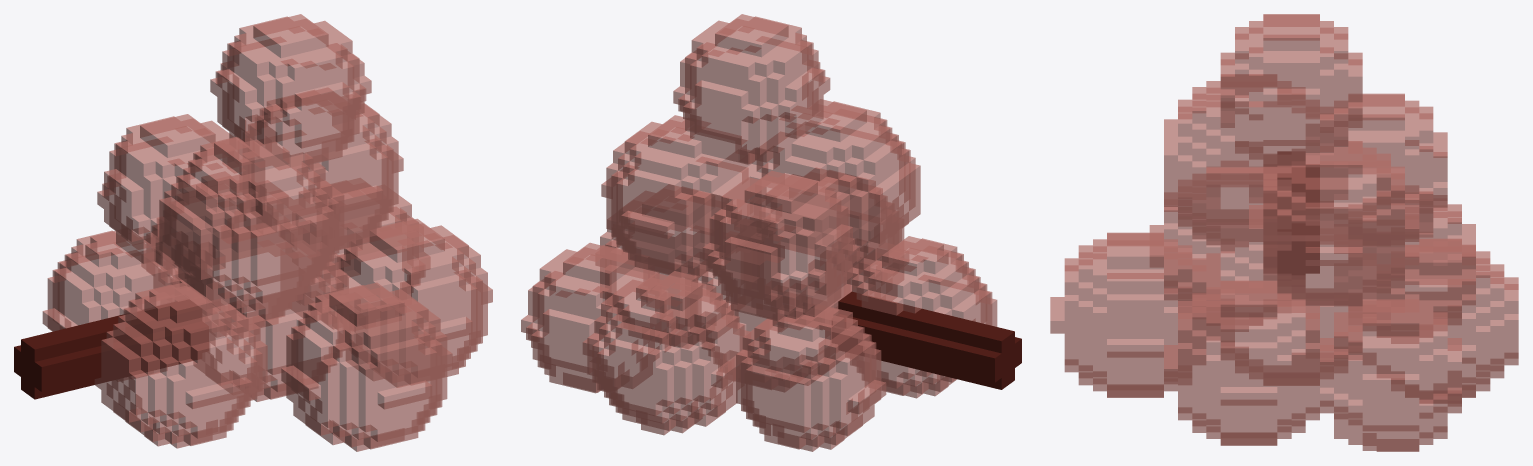
The model's file is mutant_bug_hydrogen_sacs.glb.
3 renders of one model, left to right at view 1: azimuth 30°, elevation 25°; view 2: azimuth 150°, elevation 25°; view 3: azimuth 270°, elevation 25°, orthographic. The views are drawn at different scales.
Visible parts, largest first — view 1: mutant_bug_hydrogen_sacs:compound; view 2: mutant_bug_hydrogen_sacs:compound; view 3: mutant_bug_hydrogen_sacs:compound.
Part boxes in pixels (<box>): mutant_bug_hydrogen_sacs:compound: <box>14,14,492,451</box>; mutant_bug_hydrogen_sacs:compound: <box>521,14,1021,451</box>; mutant_bug_hydrogen_sacs:compound: <box>1050,14,1518,451</box>.
Size of the model in its own units: 0.072 by 0.056 by 0.066.
